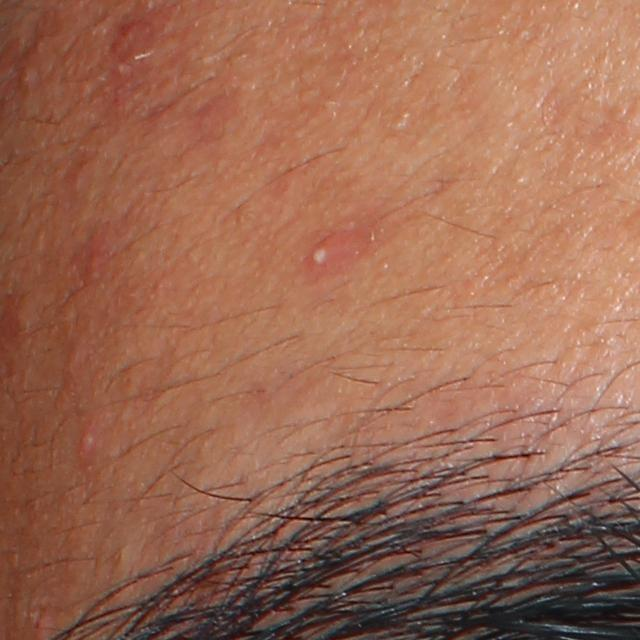papule: (73, 427, 98, 458)
pustule: (302, 235, 351, 280)
